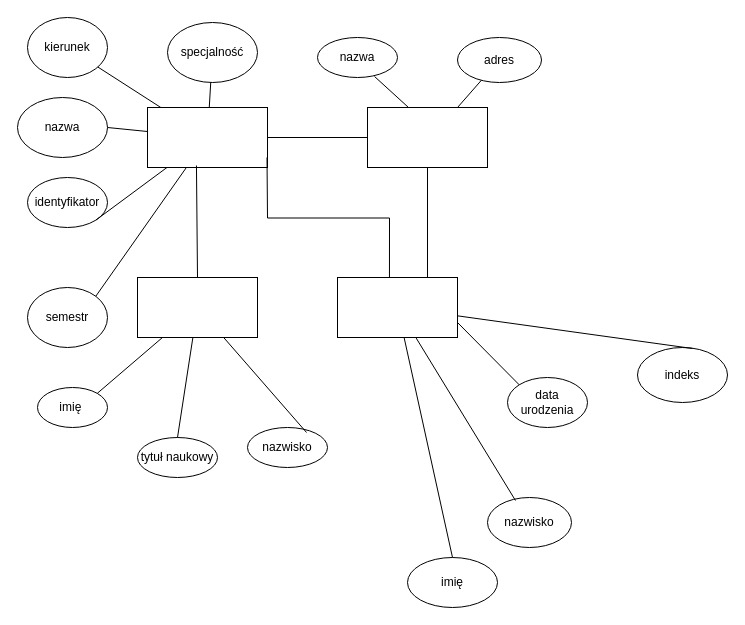
Some shapes in this 745 by 625 pixel diagram are drawn without their labels. Here are the shapes that lost their labels. From the top down, the box of each, then its label:
(146, 106, 268, 168): Dane grupy
(366, 106, 488, 168): Wydział
(136, 276, 258, 338): Dane pracownika
(336, 276, 458, 338): Dane studenta
